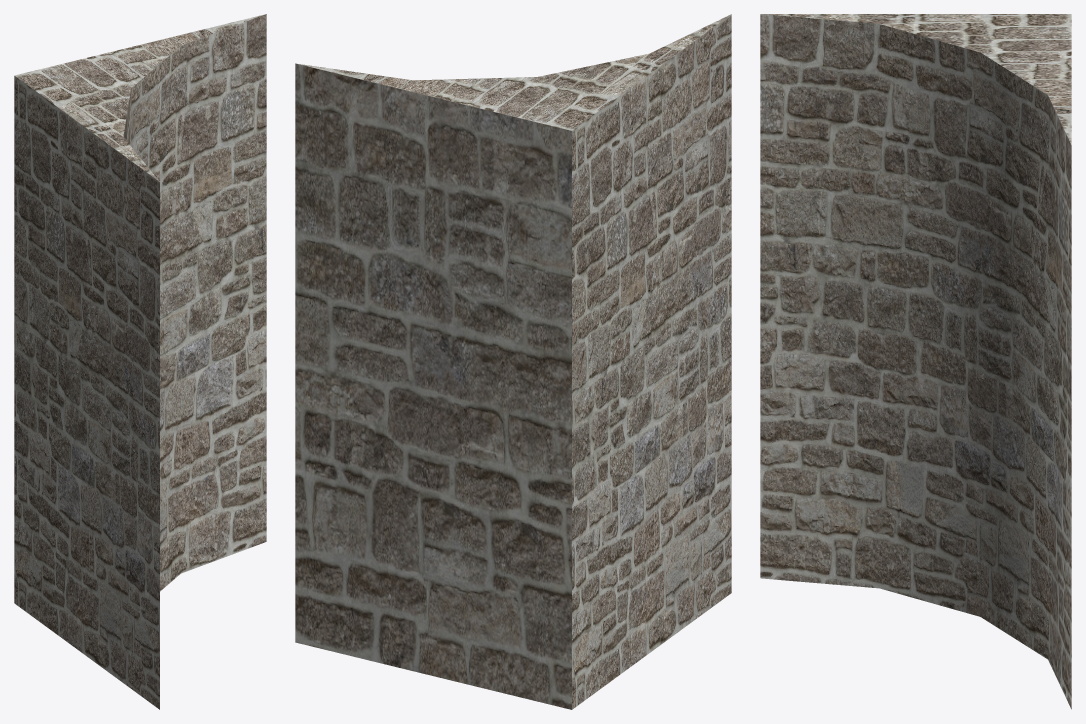
The model's file is wall_curved_in.obj.
The picture shows the model from 3 angles, left to right: view 1: azimuth 30°, elevation 25°; view 2: azimuth 150°, elevation 25°; view 3: azimuth 270°, elevation 25°; orthographic projection. The views are drawn at different scales.
Bounding box in the file's own units: 1 × 2 × 1.
